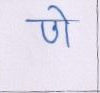e_matra: (49, 5, 69, 19)
